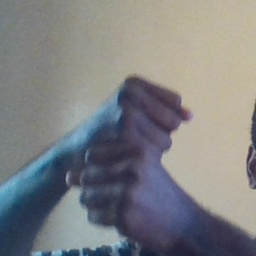G: (68, 72, 191, 230)
